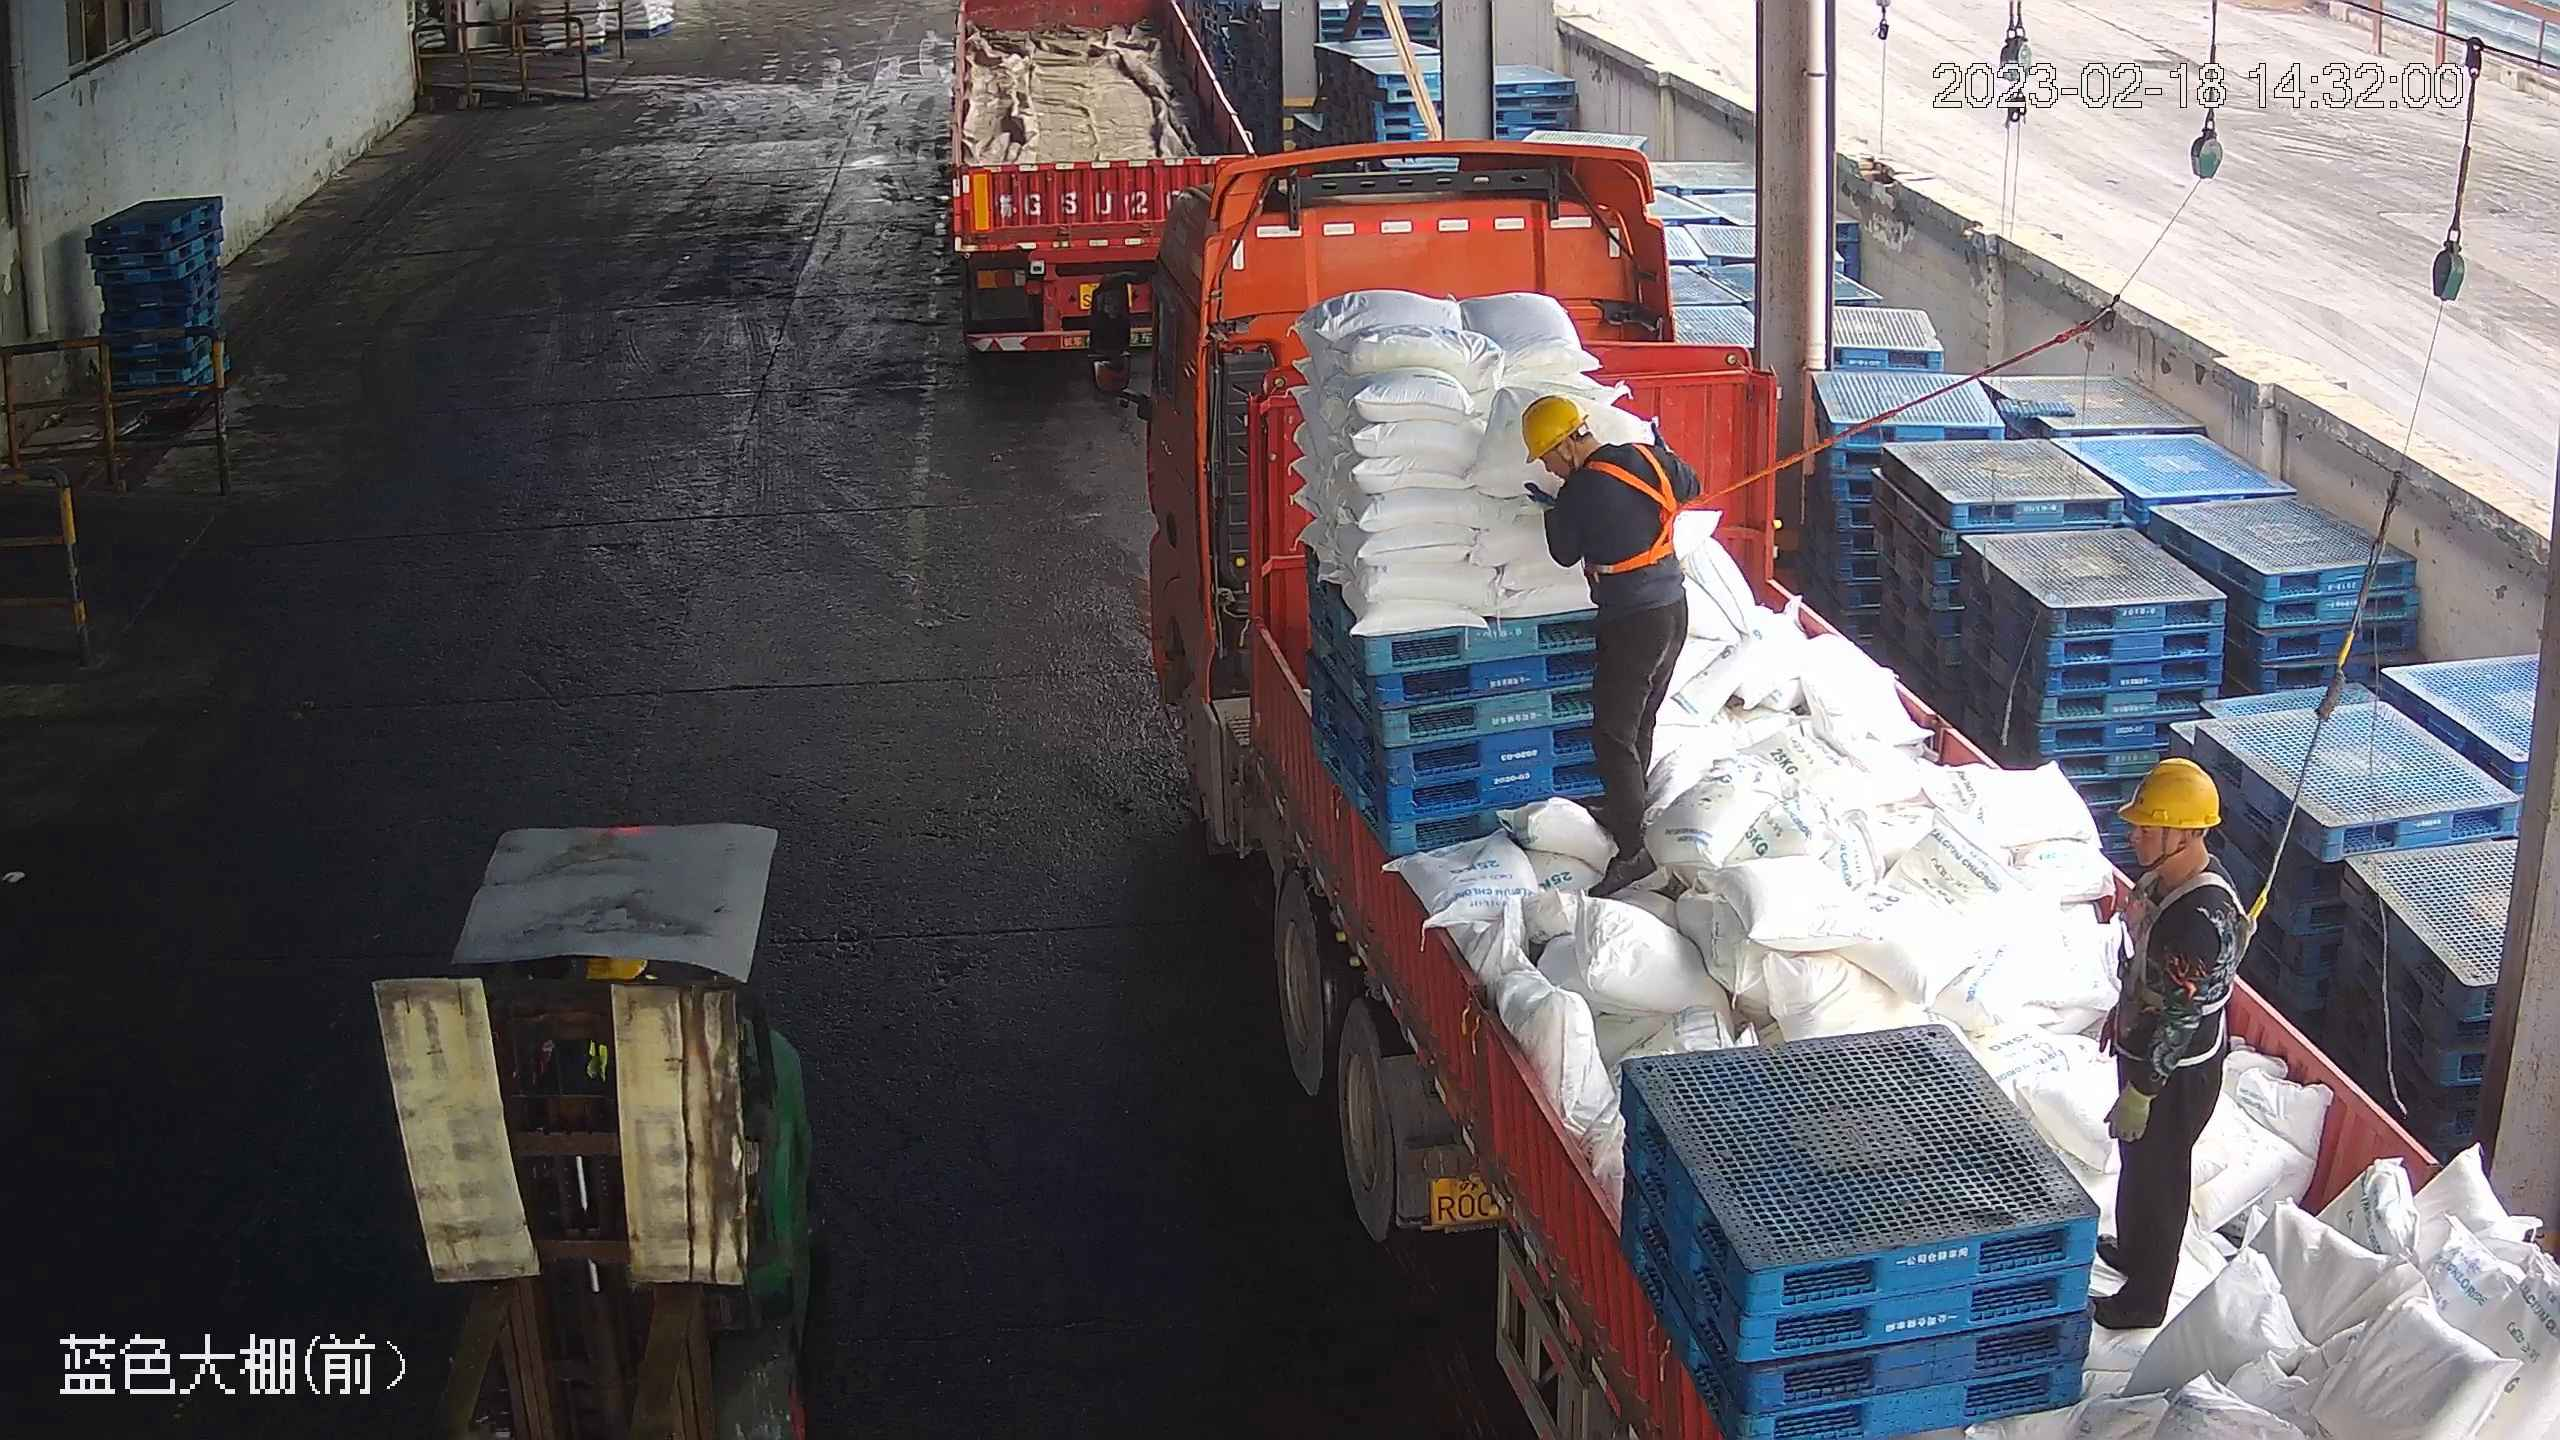belt: (2122, 867, 2261, 1013), (1587, 434, 1709, 580)
head: (2110, 754, 2249, 952), (1519, 394, 1681, 562)
helmet: (2116, 754, 2222, 831), (1522, 392, 1591, 463)
people: (2080, 753, 2254, 1341), (1524, 397, 1698, 891)
truck: (1068, 132, 2551, 1439), (939, 4, 1266, 376)
